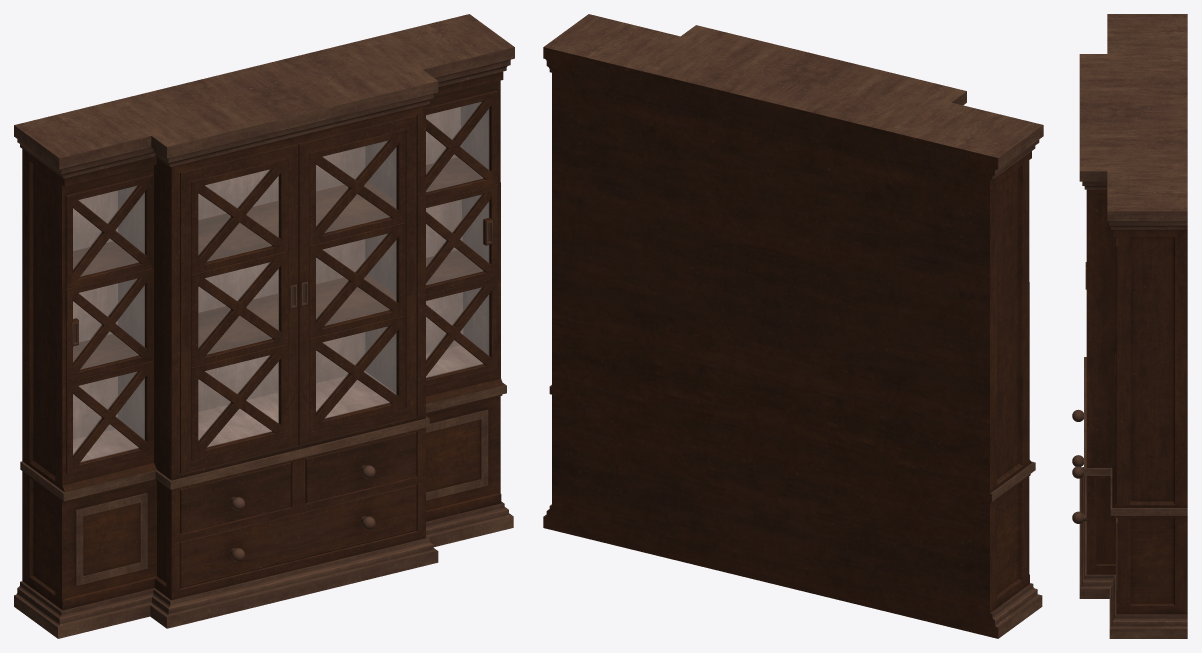
File: cabinet_living_room.glb
3 renders of one model, left to right at view 1: azimuth 30°, elevation 25°; view 2: azimuth 150°, elevation 25°; view 3: azimuth 270°, elevation 25°, orthographic. The views are drawn at different scales.
Parts seen in each view (by area): view 1: Object_3, Object_2; view 2: Object_3; view 3: Object_3.
Boxes of the visible parts, x1,y1,x2,y2 form: Object_3: (14,14,514,638); Object_2: (73,102,488,461); Object_3: (543,14,1043,638); Object_3: (1072,14,1187,638).
Size of the model in its own units: 2.52 by 2.55 by 0.6244.
Materials: 2 (1 with a texture image).
